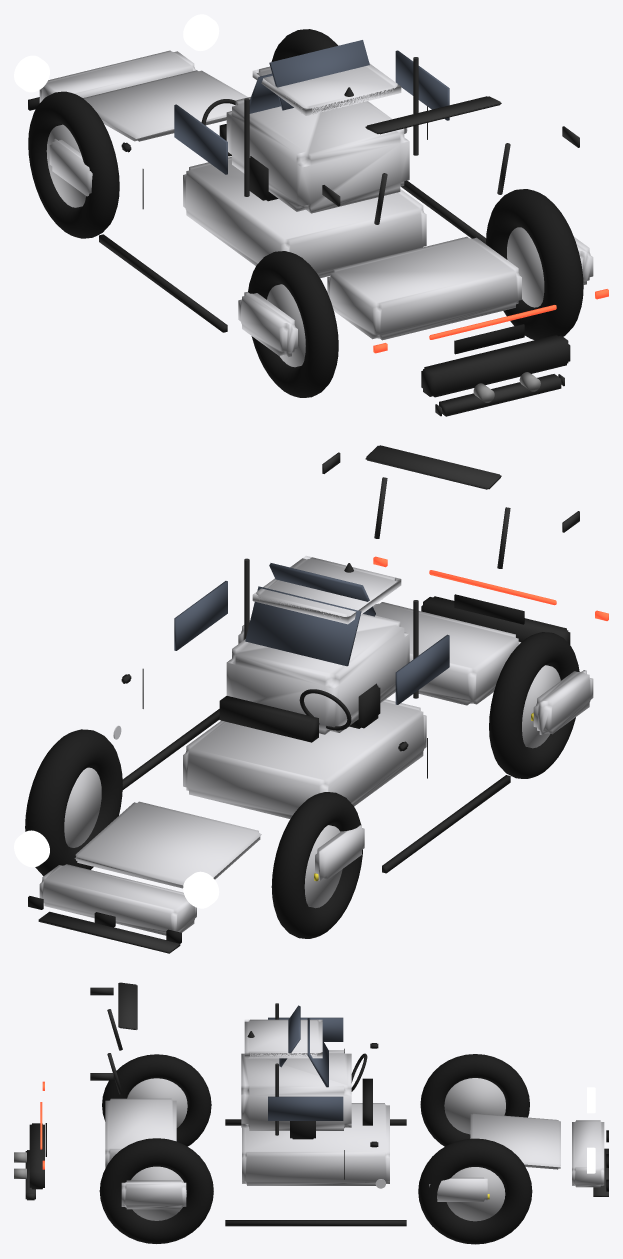
File: porsche-911-gt3.glb
3 renders of one model, top to bottom at view 1: azimuth 30°, elevation 25°; view 2: azimuth 150°, elevation 25°; view 3: azimuth 270°, elevation 25°, orthographic. The views are drawn at different scales.
Parts seen in each view (by area): view 1: Body_Lower, Cabin, Rear_Bay, Tire_RR, Tire_FL, Tire_RL, Hood, RearBumper, Roof, Front_Bumper, Rear_Window, RearFender_L (+18 smaller); view 2: Body_Lower, Cabin, Hood, Tire_FR, Tire_FL, Tire_RL, Rear_Bay, Front_Bumper, Windshield, Roof, Dashboard, RearFender_L (+17 smaller); view 3: Body_Lower, Tire_FR, Tire_RR, Cabin, Tire_FL, Tire_RL, Hood, Rear_Bay, Roof, Rim_FL, Front_Bumper, RearFender_R (+13 smaller).
Part boxes in pixels (bbox=[...]): Body_Lower: bbox=[183, 156, 426, 278]; Cabin: bbox=[226, 97, 409, 213]; Rear_Bay: bbox=[327, 236, 521, 340]; Tire_RR: bbox=[486, 189, 583, 340]; Tire_FL: bbox=[28, 91, 119, 238]; Tire_RL: bbox=[248, 251, 338, 397]; Hood: bbox=[83, 70, 247, 141]; RearBumper: bbox=[421, 335, 570, 397]; Roof: bbox=[252, 63, 401, 115]; Front_Bumper: bbox=[39, 50, 196, 102]; Rear_Window: bbox=[269, 40, 369, 110]; RearFender_L: bbox=[238, 292, 297, 356]; Body_Lower: bbox=[183, 699, 426, 818]; Cabin: bbox=[226, 613, 409, 734]; Hood: bbox=[74, 801, 261, 888]; Tire_FR: bbox=[25, 729, 122, 875]; Tire_FL: bbox=[271, 792, 362, 938]; Tire_RL: bbox=[489, 632, 579, 778]; Rear_Bay: bbox=[373, 602, 520, 705]; Front_Bumper: bbox=[39, 864, 196, 935]; Windshield: bbox=[245, 586, 361, 666]; Roof: bbox=[252, 555, 401, 624]; Dashboard: bbox=[219, 696, 318, 742]; RearFender_L: bbox=[533, 670, 593, 735]; Body_Lower: bbox=[242, 1103, 389, 1185]; Tire_FR: bbox=[418, 1138, 532, 1244]; Tire_RR: bbox=[99, 1138, 213, 1243]; Cabin: bbox=[241, 1050, 351, 1130]; Tire_FL: bbox=[420, 1054, 529, 1146]; Tire_RL: bbox=[102, 1054, 211, 1146]; Hood: bbox=[470, 1113, 560, 1169]; Rear_Bay: bbox=[105, 1098, 176, 1168]; Roof: bbox=[244, 1019, 322, 1058]; Rim_FL: bbox=[444, 1078, 505, 1134]; Front_Bumper: bbox=[572, 1120, 604, 1187]; RearFender_R: bbox=[121, 1180, 186, 1209].
Bounding box in the file's own units: 2.02 × 1.66 × 4.59.
